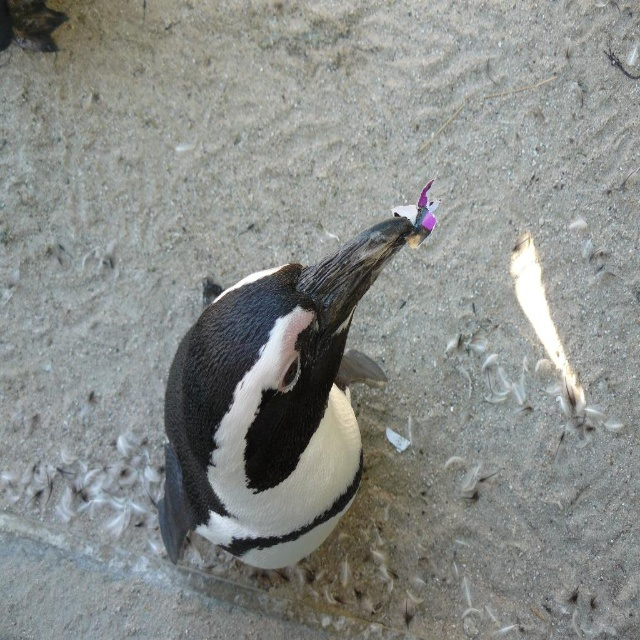Penguin: (156, 219, 415, 573)
